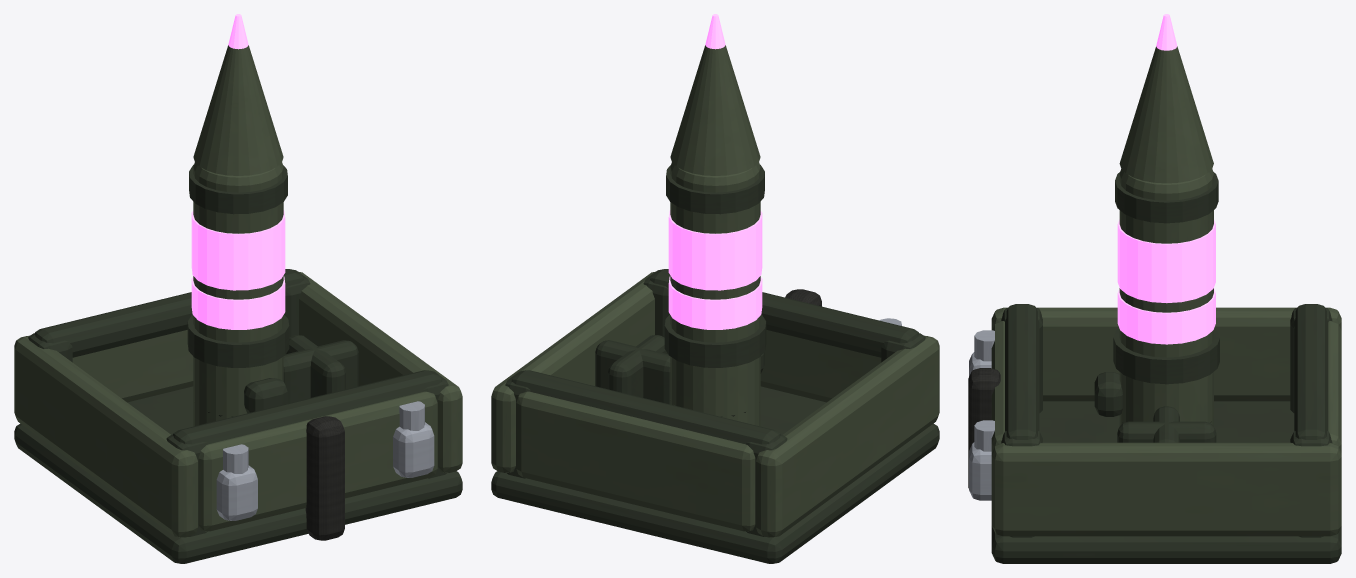
The model's file is pickup_rocket_round.glb.
The picture shows the model from 3 angles, left to right: view 1: azimuth 30°, elevation 25°; view 2: azimuth 150°, elevation 25°; view 3: azimuth 270°, elevation 25°; orthographic projection. The views are drawn at different scales.
Parts seen in each view (by area): view 1: pickup_rocket_round_crate_wall_l, pickup_rocket_round_crate_floor, pickup_rocket_round_crate_wall_f, pickup_rocket_round_tube, pickup_rocket_round_crate_wall_r, pickup_rocket_round_nose, pickup_rocket_round_crate_rail_f, pickup_rocket_round_crate_wall_b, pickup_rocket_round_warhead_badge, pickup_rocket_round_crate_rail_b, pickup_rocket_round_strap, pickup_rocket_round_warhead_band (+11 smaller); view 2: pickup_rocket_round_crate_wall_b, pickup_rocket_round_crate_wall_l, pickup_rocket_round_crate_floor, pickup_rocket_round_tube, pickup_rocket_round_crate_wall_r, pickup_rocket_round_nose, pickup_rocket_round_crate_rail_b, pickup_rocket_round_warhead_badge, pickup_rocket_round_crate_wall_f, pickup_rocket_round_crate_rail_f, pickup_rocket_round_warhead_band, pickup_rocket_round_collar_lo (+6 smaller); view 3: pickup_rocket_round_crate_wall_r, pickup_rocket_round_crate_floor, pickup_rocket_round_crate_wall_l, pickup_rocket_round_tube, pickup_rocket_round_nose, pickup_rocket_round_warhead_badge, pickup_rocket_round_crate_rail_b, pickup_rocket_round_crate_rail_f, pickup_rocket_round_warhead_band, pickup_rocket_round_collar_lo, pickup_rocket_round_collar_hi, pickup_rocket_round_crate_wall_b (+12 smaller).
Part boxes in pixels (x1,y1,x2,y2): pickup_rocket_round_crate_wall_l: (14, 335, 197, 537); pickup_rocket_round_crate_floor: (14, 386, 462, 563); pickup_rocket_round_crate_wall_f: (198, 391, 437, 531); pickup_rocket_round_tube: (193, 162, 283, 426); pickup_rocket_round_crate_wall_r: (298, 271, 462, 472); pickup_rocket_round_nose: (193, 45, 283, 175); pickup_rocket_round_crate_rail_f: (173, 370, 442, 444); pickup_rocket_round_crate_wall_b: (72, 330, 193, 402); pickup_rocket_round_warhead_badge: (191, 210, 285, 290); pickup_rocket_round_crate_rail_b: (34, 269, 303, 357); pickup_rocket_round_strap: (305, 416, 344, 540); pickup_rocket_round_warhead_band: (191, 276, 285, 329); pickup_rocket_round_crate_wall_b: (516, 391, 755, 531); pickup_rocket_round_crate_wall_l: (756, 335, 939, 537); pickup_rocket_round_crate_floor: (491, 386, 939, 563); pickup_rocket_round_tube: (670, 162, 760, 426); pickup_rocket_round_crate_wall_r: (491, 271, 655, 472); pickup_rocket_round_nose: (670, 45, 760, 175); pickup_rocket_round_crate_rail_b: (511, 370, 780, 444); pickup_rocket_round_warhead_badge: (668, 210, 762, 290); pickup_rocket_round_crate_wall_f: (760, 330, 881, 402); pickup_rocket_round_crate_rail_f: (650, 269, 919, 357); pickup_rocket_round_warhead_band: (668, 276, 762, 329); pickup_rocket_round_collar_lo: (664, 314, 766, 367); pickup_rocket_round_crate_wall_r: (991, 442, 1341, 536); pickup_rocket_round_crate_floor: (991, 401, 1341, 563); pickup_rocket_round_crate_wall_l: (991, 307, 1341, 401); pickup_rocket_round_tube: (1119, 169, 1213, 426); pickup_rocket_round_nose: (1119, 46, 1213, 183); pickup_rocket_round_warhead_badge: (1117, 219, 1215, 303); pickup_rocket_round_crate_rail_b: (1294, 304, 1328, 439); pickup_rocket_round_crate_rail_f: (1005, 304, 1039, 439); pickup_rocket_round_warhead_band: (1117, 288, 1215, 344); pickup_rocket_round_collar_lo: (1113, 328, 1219, 384); pickup_rocket_round_collar_hi: (1115, 172, 1218, 223); pickup_rocket_round_crate_wall_b: (1328, 321, 1341, 452).
Size of the model in its own units: 0.46 by 0.695 by 0.491.
5 materials, 4 textured.
